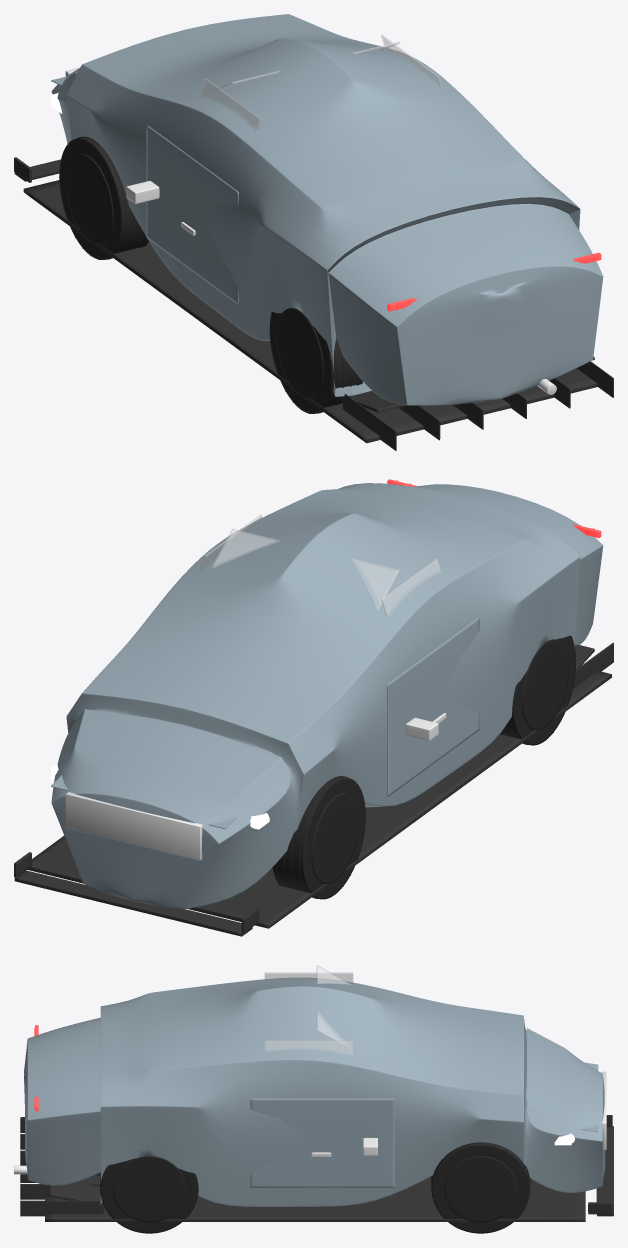
The model's file is Car_Toyota_FJ_Cruiser_2010s_Complete.glb.
3 renders of one model, top to bottom at view 1: azimuth 30°, elevation 25°; view 2: azimuth 150°, elevation 25°; view 3: azimuth 270°, elevation 25°, orthographic. The views are drawn at different scales.
Parts seen in each view (by area): view 1: BODY_MainShell, UNDERBODY_FlatFloor, BODY_Door_FL, WHEEL_FL_Tire, WHEEL_RL_Tire, GLASS_Greenhouse, AERO_FrontSplitter, JEWELRY_Hardware; view 2: BODY_MainShell, UNDERBODY_FlatFloor, BODY_Door_FL, WHEEL_FL_Tire, WHEEL_RL_Tire, JEWELRY_FJCruiser_GrilleFrame, GLASS_Greenhouse, AERO_FrontSplitter, JEWELRY_Hardware; view 3: BODY_MainShell, UNDERBODY_FlatFloor, BODY_Door_FR, WHEEL_FR_Tire, WHEEL_RR_Tire, GLASS_Greenhouse, AERO_FrontSplitter, JEWELRY_Hardware.
Boxes of the visible parts, x1,y1,x2,y2 form: BODY_MainShell: [51, 14, 603, 405]; UNDERBODY_FlatFloor: [23, 180, 613, 450]; BODY_Door_FL: [146, 125, 238, 304]; WHEEL_FL_Tire: [59, 136, 148, 259]; WHEEL_RL_Tire: [269, 306, 362, 413]; GLASS_Greenhouse: [199, 35, 441, 132]; AERO_FrontSplitter: [14, 157, 60, 182]; JEWELRY_Hardware: [126, 180, 195, 235]; BODY_MainShell: [51, 483, 603, 908]; UNDERBODY_FlatFloor: [27, 642, 613, 928]; BODY_Door_FL: [387, 617, 479, 796]; WHEEL_FL_Tire: [272, 776, 365, 899]; WHEEL_RL_Tire: [500, 635, 576, 745]; JEWELRY_FJCruiser_GrilleFrame: [65, 792, 202, 860]; GLASS_Greenhouse: [199, 514, 442, 617]; AERO_FrontSplitter: [14, 852, 259, 936]; JEWELRY_Hardware: [405, 713, 446, 740]; BODY_MainShell: [24, 977, 605, 1206]; UNDERBODY_FlatFloor: [20, 1117, 585, 1221]; BODY_Door_FR: [250, 1098, 394, 1187]; WHEEL_FR_Tire: [431, 1142, 530, 1233]; WHEEL_RR_Tire: [100, 1156, 198, 1233]; GLASS_Greenhouse: [264, 965, 353, 1055]; AERO_FrontSplitter: [588, 1115, 613, 1216]; JEWELRY_Hardware: [311, 1137, 377, 1156].
Size of what is drawn, in the model's own units: 2.24 by 1.8 by 4.87.
